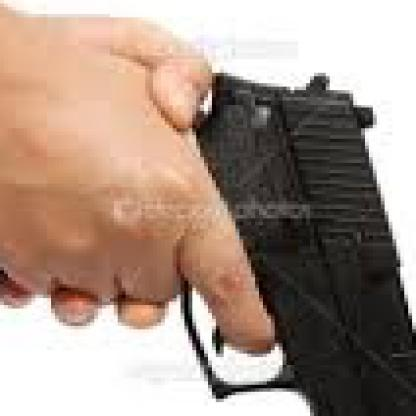gun: (0, 59, 412, 412)
